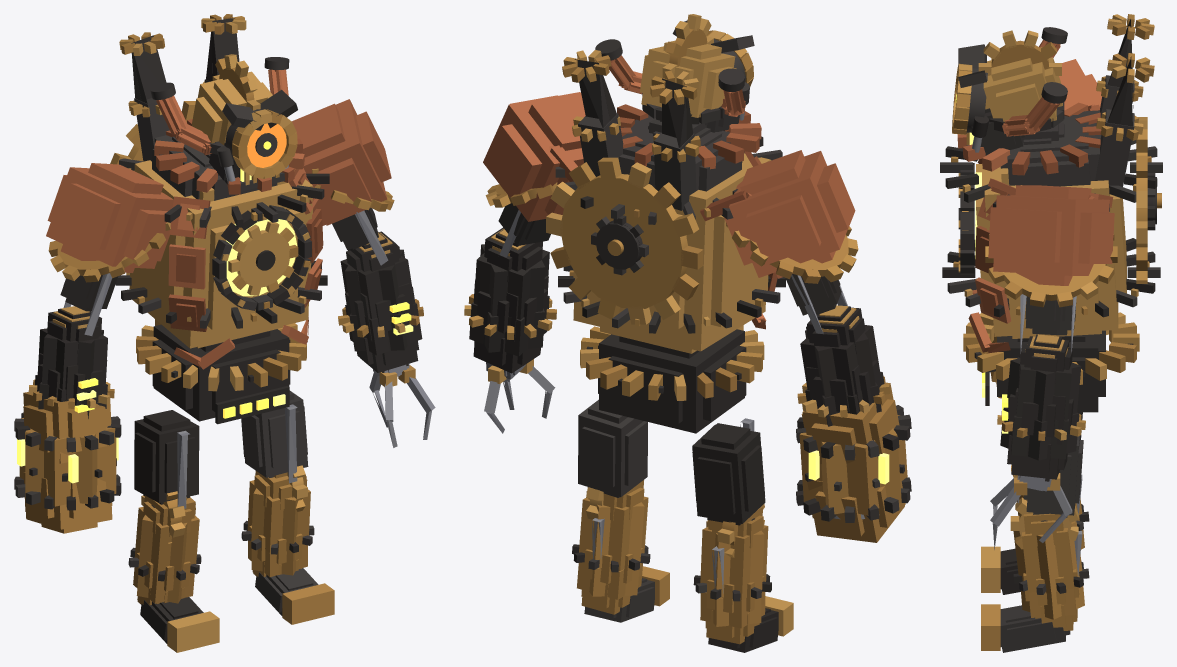
The picture shows the model from 3 angles, left to right: view 1: azimuth 30°, elevation 25°; view 2: azimuth 150°, elevation 25°; view 3: azimuth 270°, elevation 25°; orthographic projection. The views are drawn at different scales.
Parts seen in each view (by area): view 1: GrandMechanist; view 2: GrandMechanist; view 3: GrandMechanist.
Boxes of the visible parts, x1,y1,x2,y2 form: GrandMechanist: (14, 14, 435, 652); GrandMechanist: (464, 14, 911, 652); GrandMechanist: (940, 14, 1162, 652).
Bounding box in the file's own units: 1.21 × 1.63 × 0.5656.
